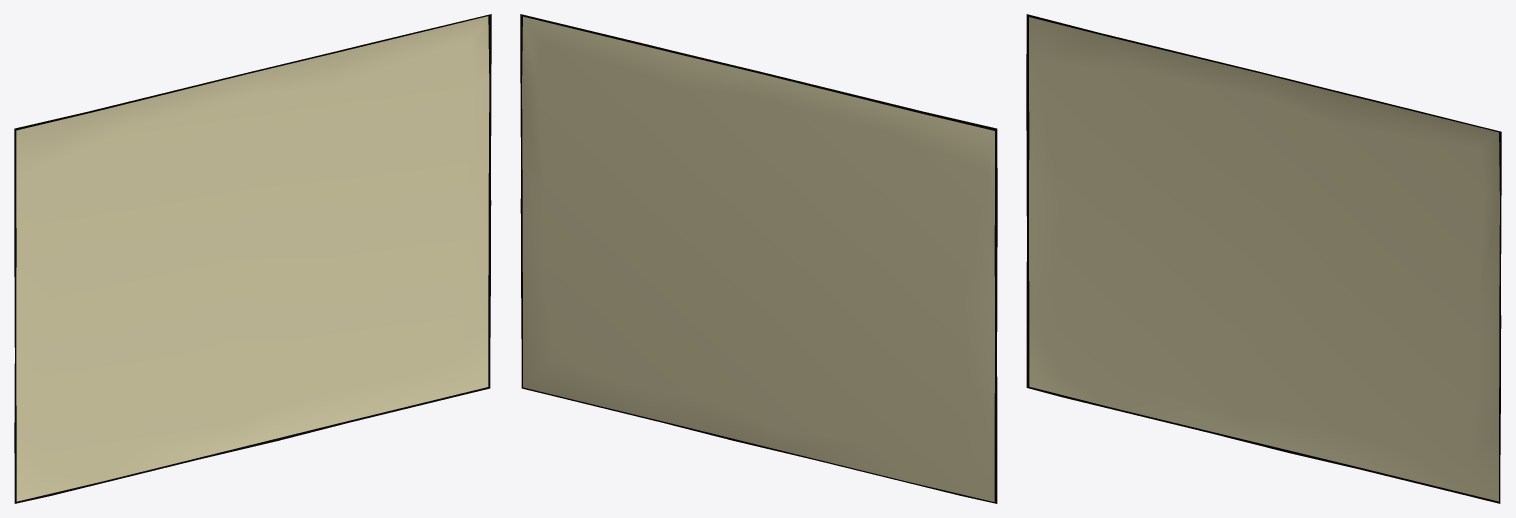
The model's file is ui_inset_lg_4x3.glb.
3 renders of one model, left to right at view 1: azimuth 30°, elevation 25°; view 2: azimuth 150°, elevation 25°; view 3: azimuth 330°, elevation 25°, orthographic.
Parts seen in each view (by area): view 1: Cube; view 2: Cube; view 3: Cube.
Boxes of the visible parts, box(x1,y1,x2,y2) form: Cube: box(14, 14, 491, 503); Cube: box(520, 14, 997, 503); Cube: box(1026, 14, 1501, 503).
Size of the model in its own units: 2.01 by 1.51 by 0.00262.
